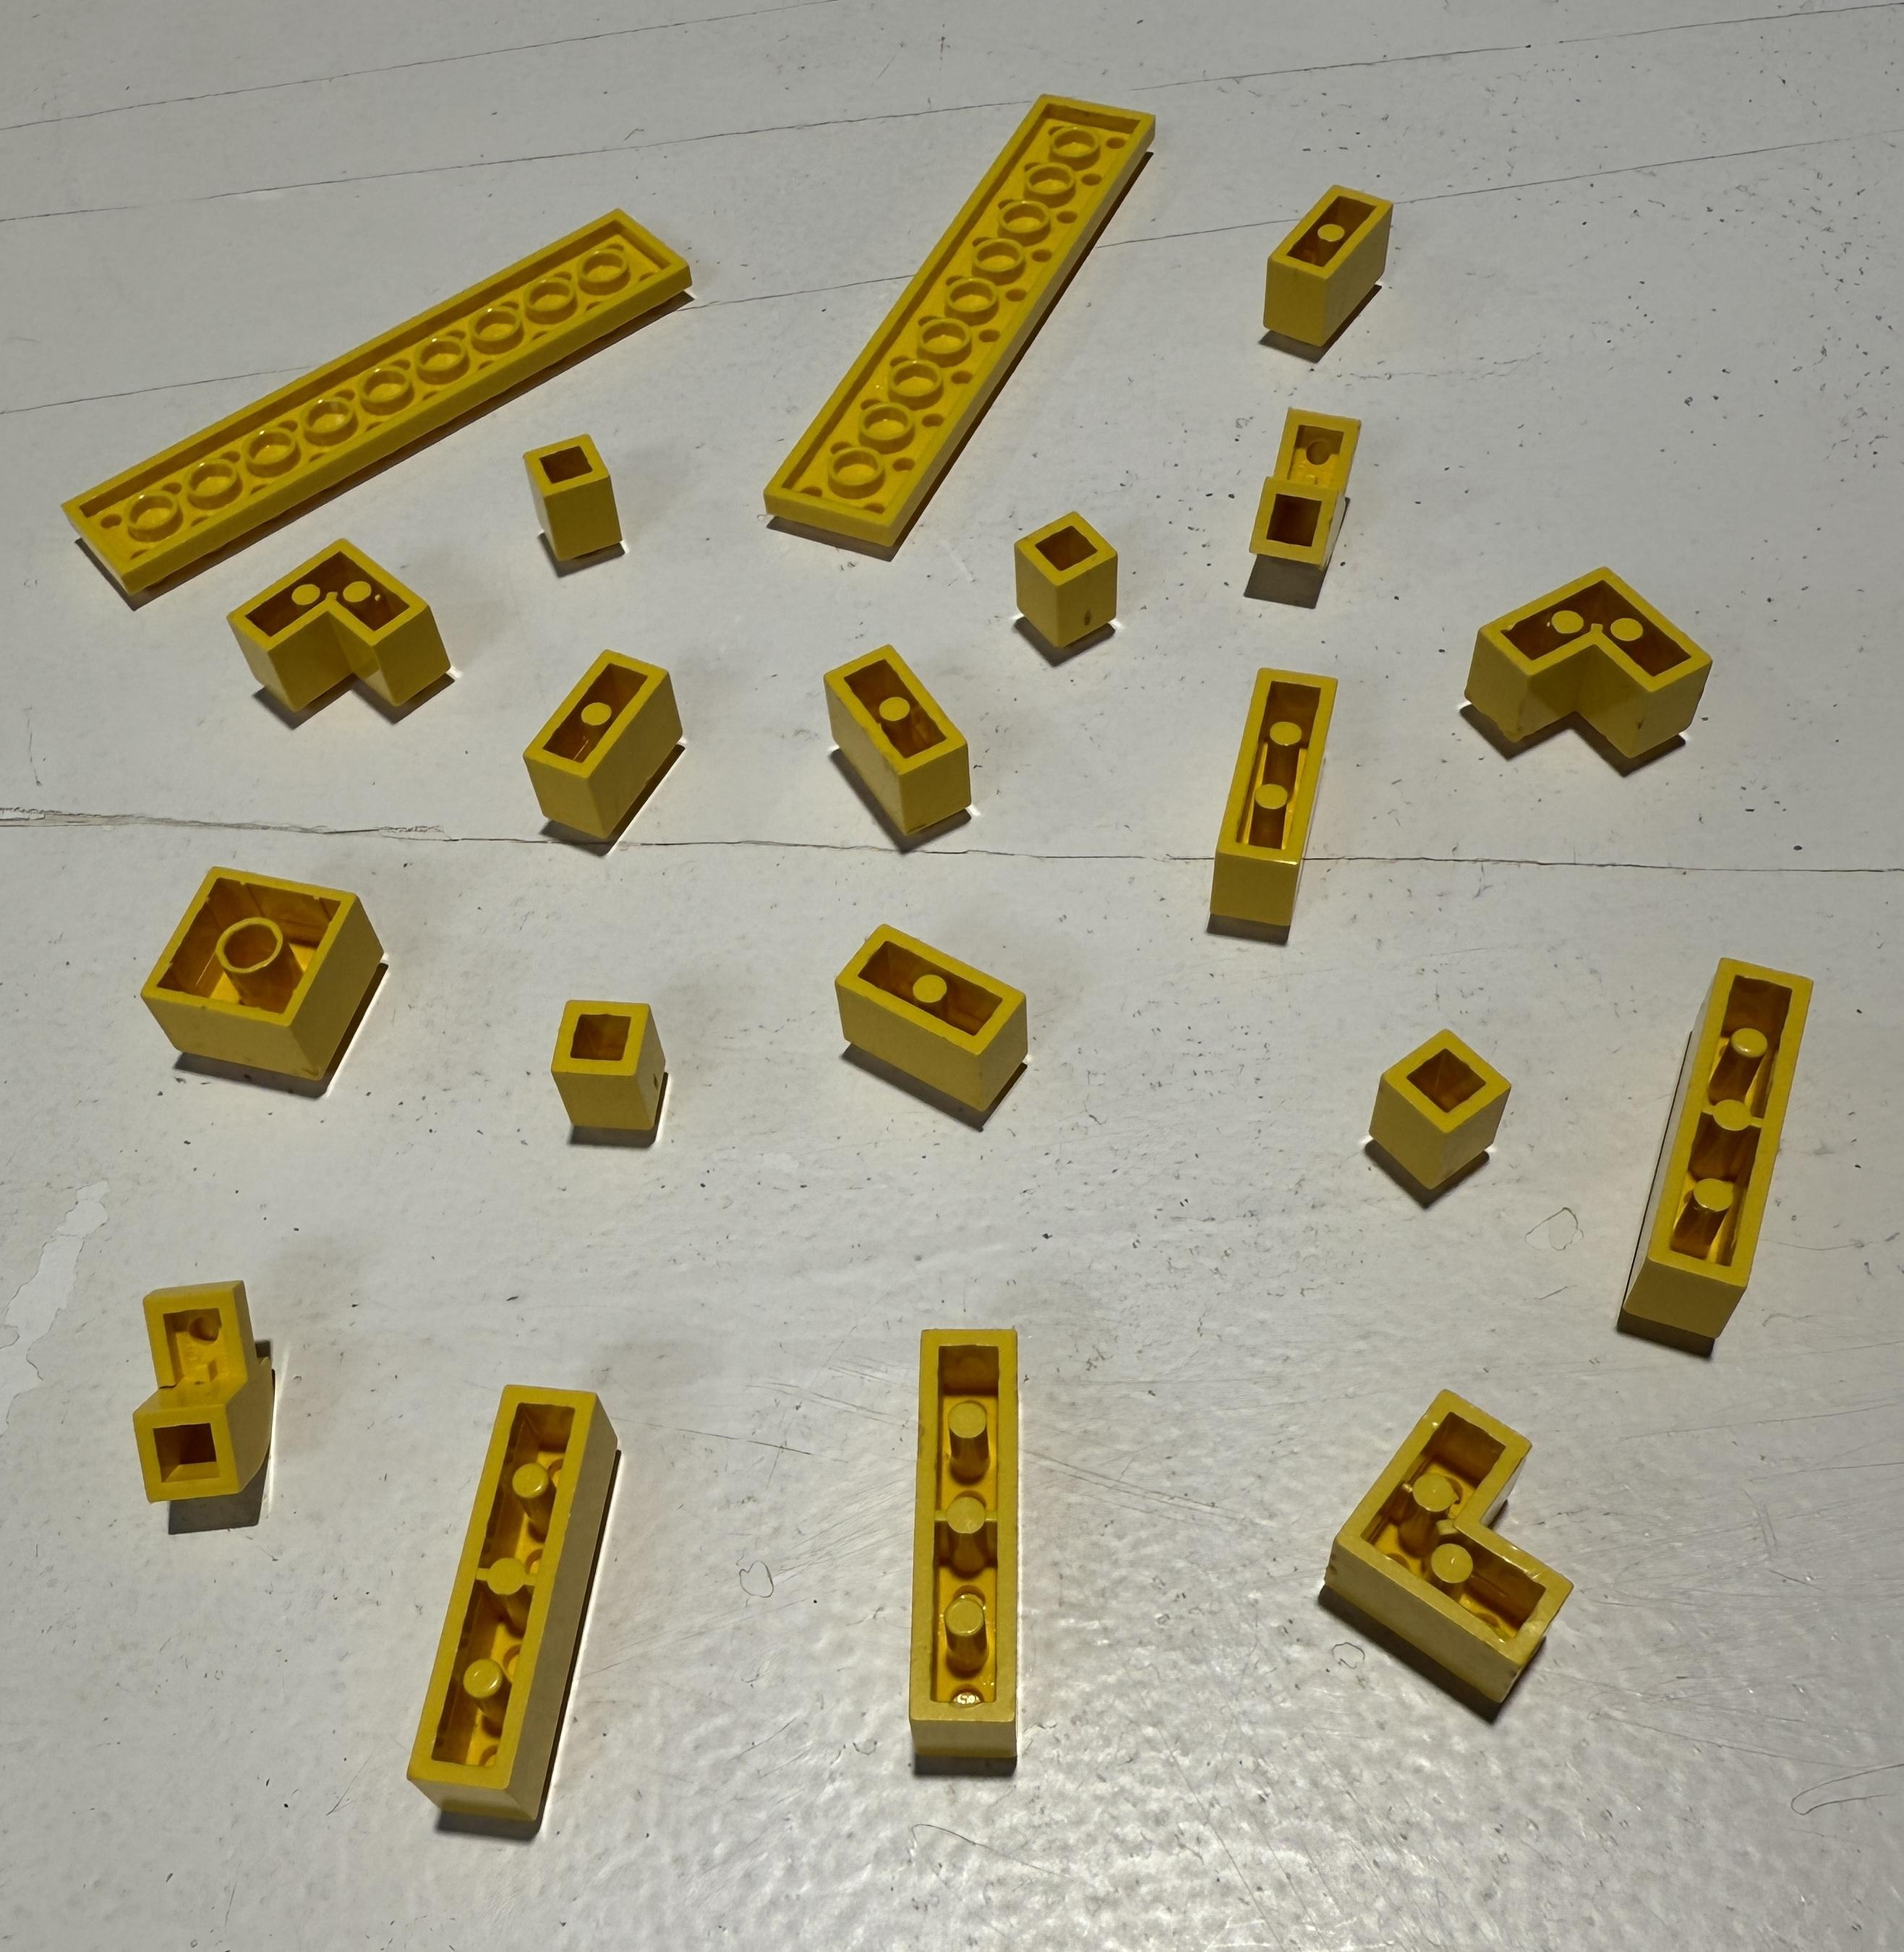brick_1x1: (502, 969, 713, 1164), (1369, 999, 1531, 1210), (978, 481, 1149, 664), (504, 396, 663, 591)
brick_1x2: (478, 622, 720, 870), (811, 906, 1050, 1136), (1221, 164, 1449, 392), (795, 629, 1003, 868)
brick_1x3: (1172, 648, 1381, 950)
brick_1x4: (1583, 938, 1860, 1400), (391, 1347, 626, 1863), (867, 1311, 1051, 1807)
brick_2x2: (112, 847, 399, 1114)
